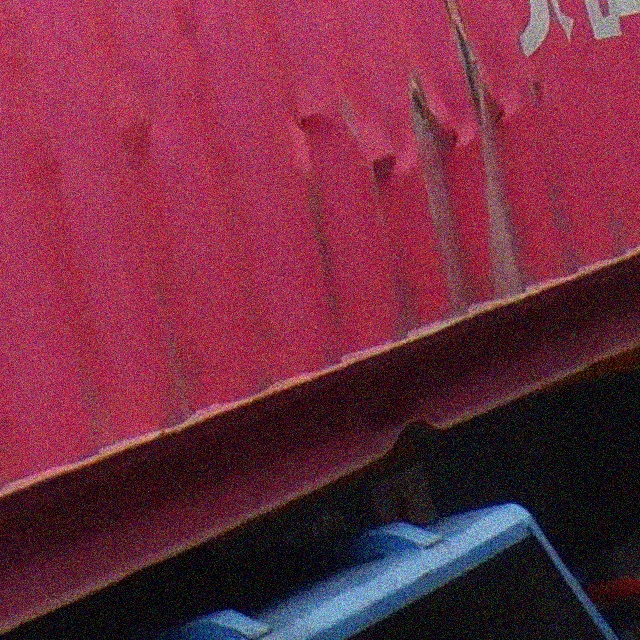Dent: (198, 44, 592, 232)
